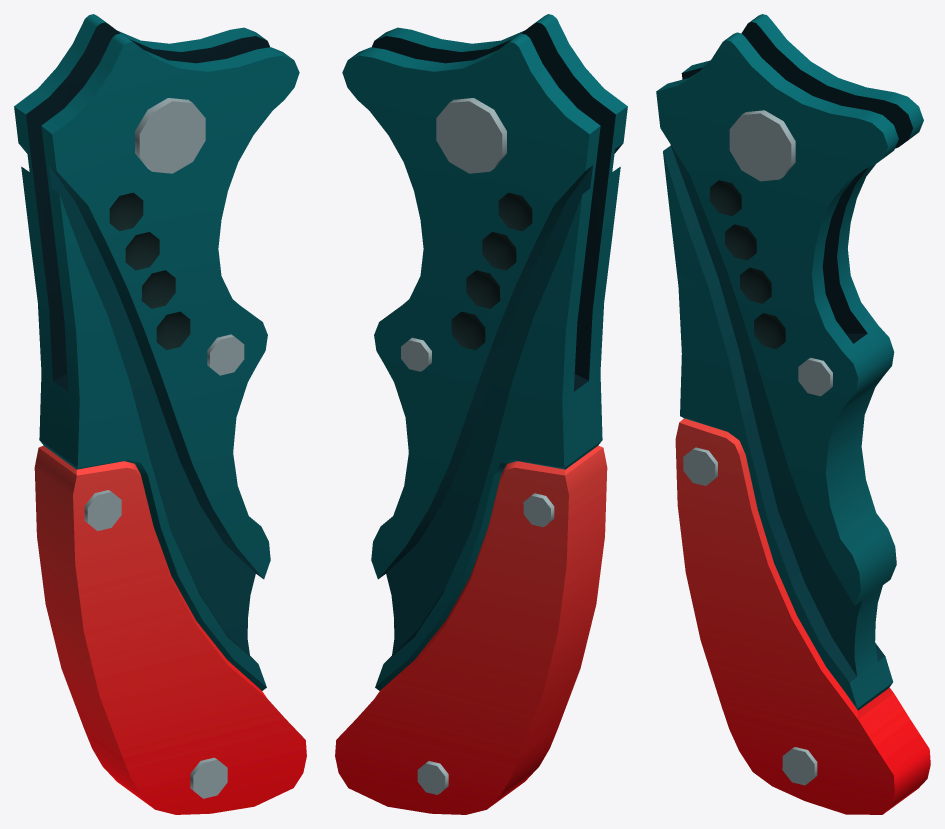
Rendered from Knife_04.fbx.
The picture shows the model from 3 angles, left to right: view 1: azimuth 30°, elevation 25°; view 2: azimuth 150°, elevation 25°; view 3: azimuth 330°, elevation 25°; orthographic projection. The views are drawn at different scales.
Visible parts, largest first — view 1: Knife_04; view 2: Knife_04; view 3: Knife_04.
Part boxes in pixels (x1=…): Knife_04: x1=14, y1=14, x2=306, y2=814; Knife_04: x1=335, y1=14, x2=627, y2=814; Knife_04: x1=656, y1=14, x2=930, y2=814.
Bounding box in the file's own units: 5.95 × 17.73 × 1.91.
